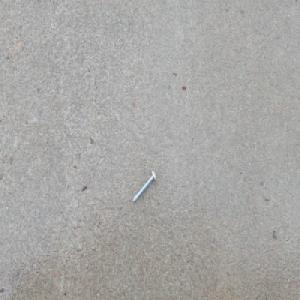Nail: (132, 169, 158, 204)
